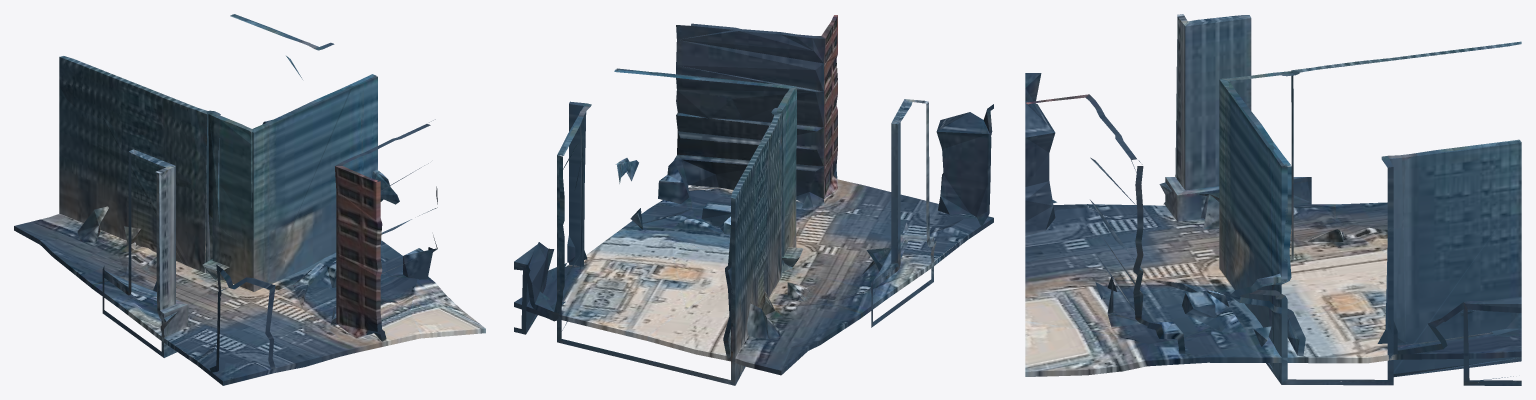
File: chunk_2_3.glb
3 renders of one model, left to right at view 1: azimuth 30°, elevation 25°; view 2: azimuth 150°, elevation 25°; view 3: azimuth 270°, elevation 25°, orthographic. The views are drawn at different scales.
Visible parts, largest first — view 1: hero-chunk; view 2: hero-chunk; view 3: hero-chunk.
Part boxes in pixels (<box>): hero-chunk: <box>14,14,485,385</box>; hero-chunk: <box>514,15,993,385</box>; hero-chunk: <box>1025,14,1521,385</box>.
Size of the model in its own units: 56.35 by 37.36 by 76.32.
Materials: 1 (1 with a texture image).
